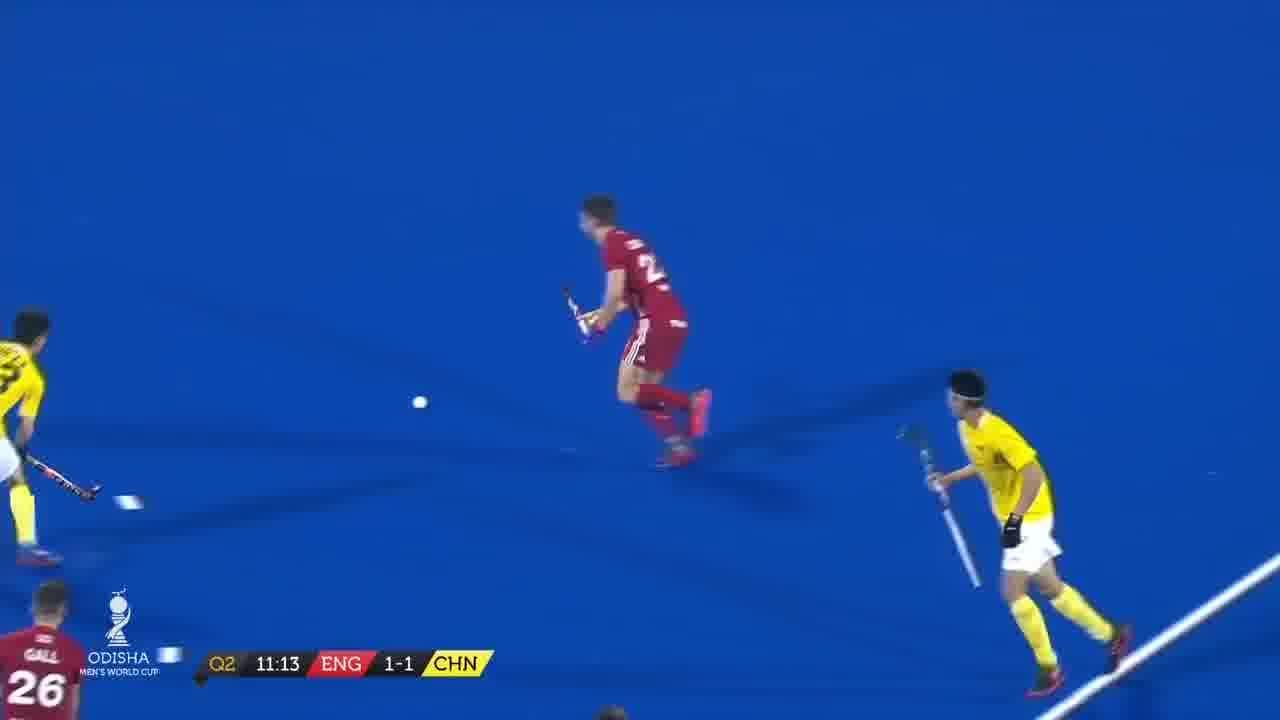ball: (408, 392, 432, 418)
